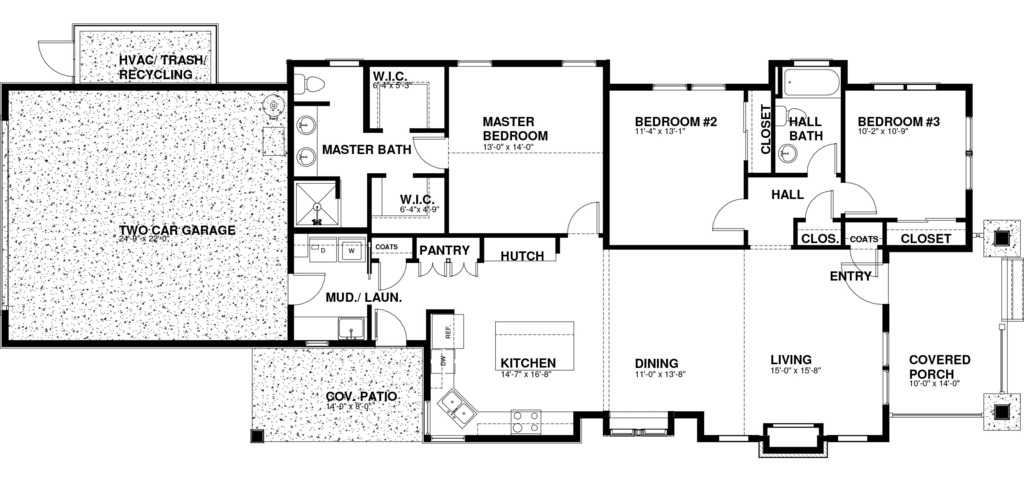door: (836, 256, 900, 307), (556, 192, 605, 244), (30, 30, 80, 77), (376, 300, 417, 349), (412, 127, 455, 172), (282, 267, 330, 307), (366, 255, 409, 294), (708, 196, 753, 231), (805, 143, 845, 182), (845, 179, 881, 218), (849, 242, 883, 278), (805, 191, 838, 226), (416, 260, 448, 284), (452, 258, 482, 283)
kitchen_bar: (488, 314, 582, 382)
large_sink: (285, 69, 339, 102), (775, 102, 817, 129)
sink: (334, 311, 361, 341)
small_sink: (290, 107, 324, 176), (779, 139, 800, 175)
tub: (778, 58, 849, 100)
twin_sink: (433, 387, 491, 442)
window: (955, 118, 980, 192), (877, 75, 935, 93), (650, 83, 728, 94), (329, 55, 363, 72), (454, 59, 490, 69)
